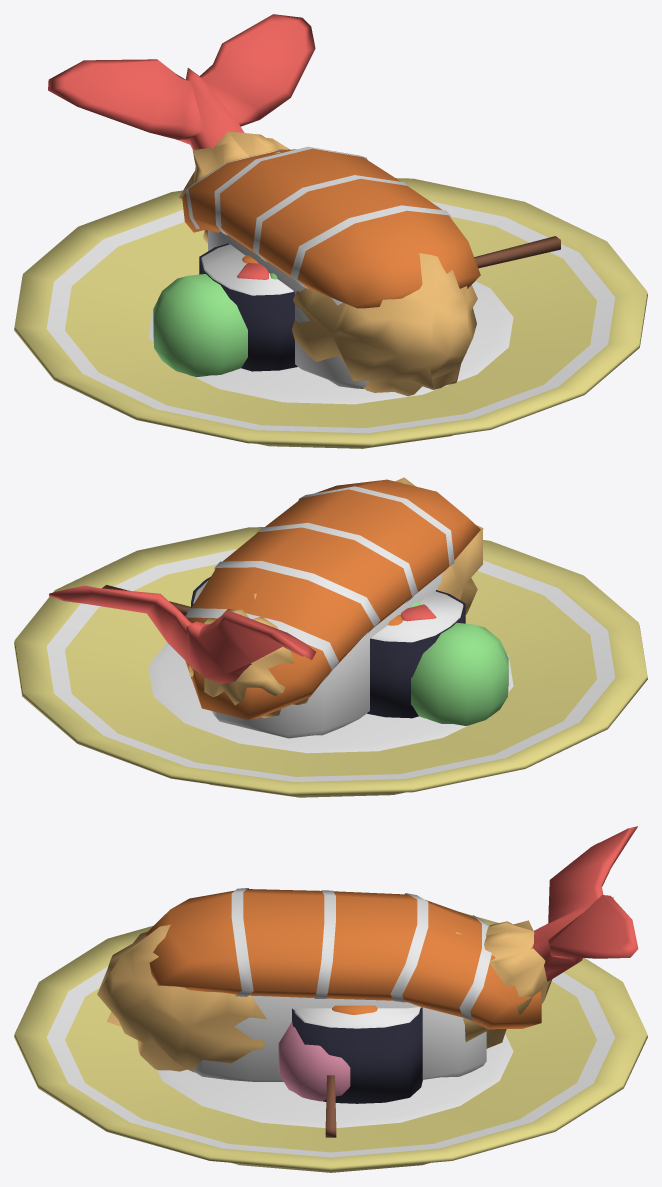
The model's file is obj0513 dish and food.fbx.
3 views of the same model, one above another, from view 1: azimuth 30°, elevation 25°; view 2: azimuth 150°, elevation 25°; view 3: azimuth 270°, elevation 25° (orthographic).
Parts seen in each view (by area): view 1: dish yellow, ebi, sushi, dango three, maki; view 2: dish yellow, sushi, ebi, dango three, maki; view 3: dish yellow, sushi, ebi, maki, dango three.
Boxes of the visible parts, <box> form: dish yellow: <box>14,178,647,448</box>; ebi: <box>48,14,477,396</box>; sushi: <box>182,146,480,388</box>; dango three: <box>153,236,560,377</box>; maki: <box>199,243,297,371</box>; dish yellow: <box>14,527,647,797</box>; sushi: <box>185,479,480,738</box>; ebi: <box>49,477,483,718</box>; dango three: <box>102,585,508,725</box>; maki: <box>191,577,465,718</box>; dish yellow: <box>14,912,647,1172</box>; sushi: <box>146,888,541,1081</box>; ebi: <box>97,826,638,1072</box>; maki: <box>292,1005,422,1103</box>; dango three: <box>278,1021,350,1137</box>.
Bounding box in the file's own units: 1.52 × 0.5278 × 1.52.
